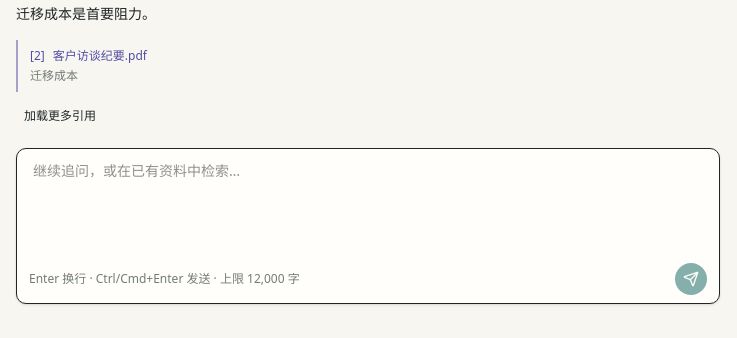
Test: US2 消息、SSE 与用户反馈 › 历史回答按需加载后续引用页
The width and height of the screenshot is (737, 338).
Expected: the button "[2] 客户访谈纪要.pdf 迁移成本" is shown, [30,40,156,92]
Click the button "加载更多引用" at (60, 116), box [16,100,104,132]
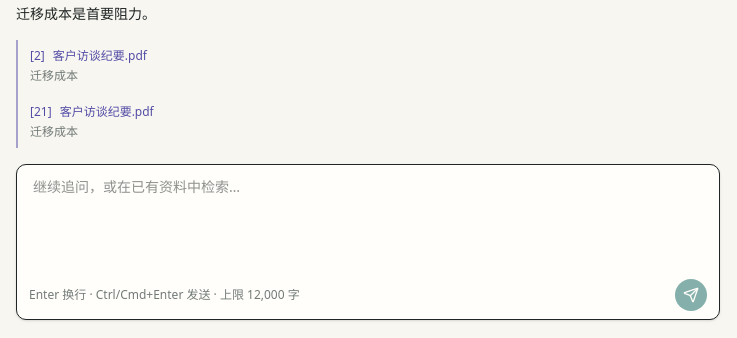
Now the text named "引用序号 21" reads "[21]", box [34,103,48,120]
